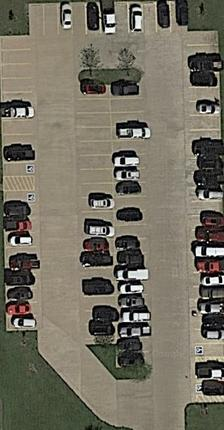parkingspot: (185, 29, 224, 359), (109, 81, 153, 369), (75, 82, 119, 347), (28, 0, 189, 38), (2, 189, 41, 332), (0, 34, 37, 179), (193, 366, 224, 397)
